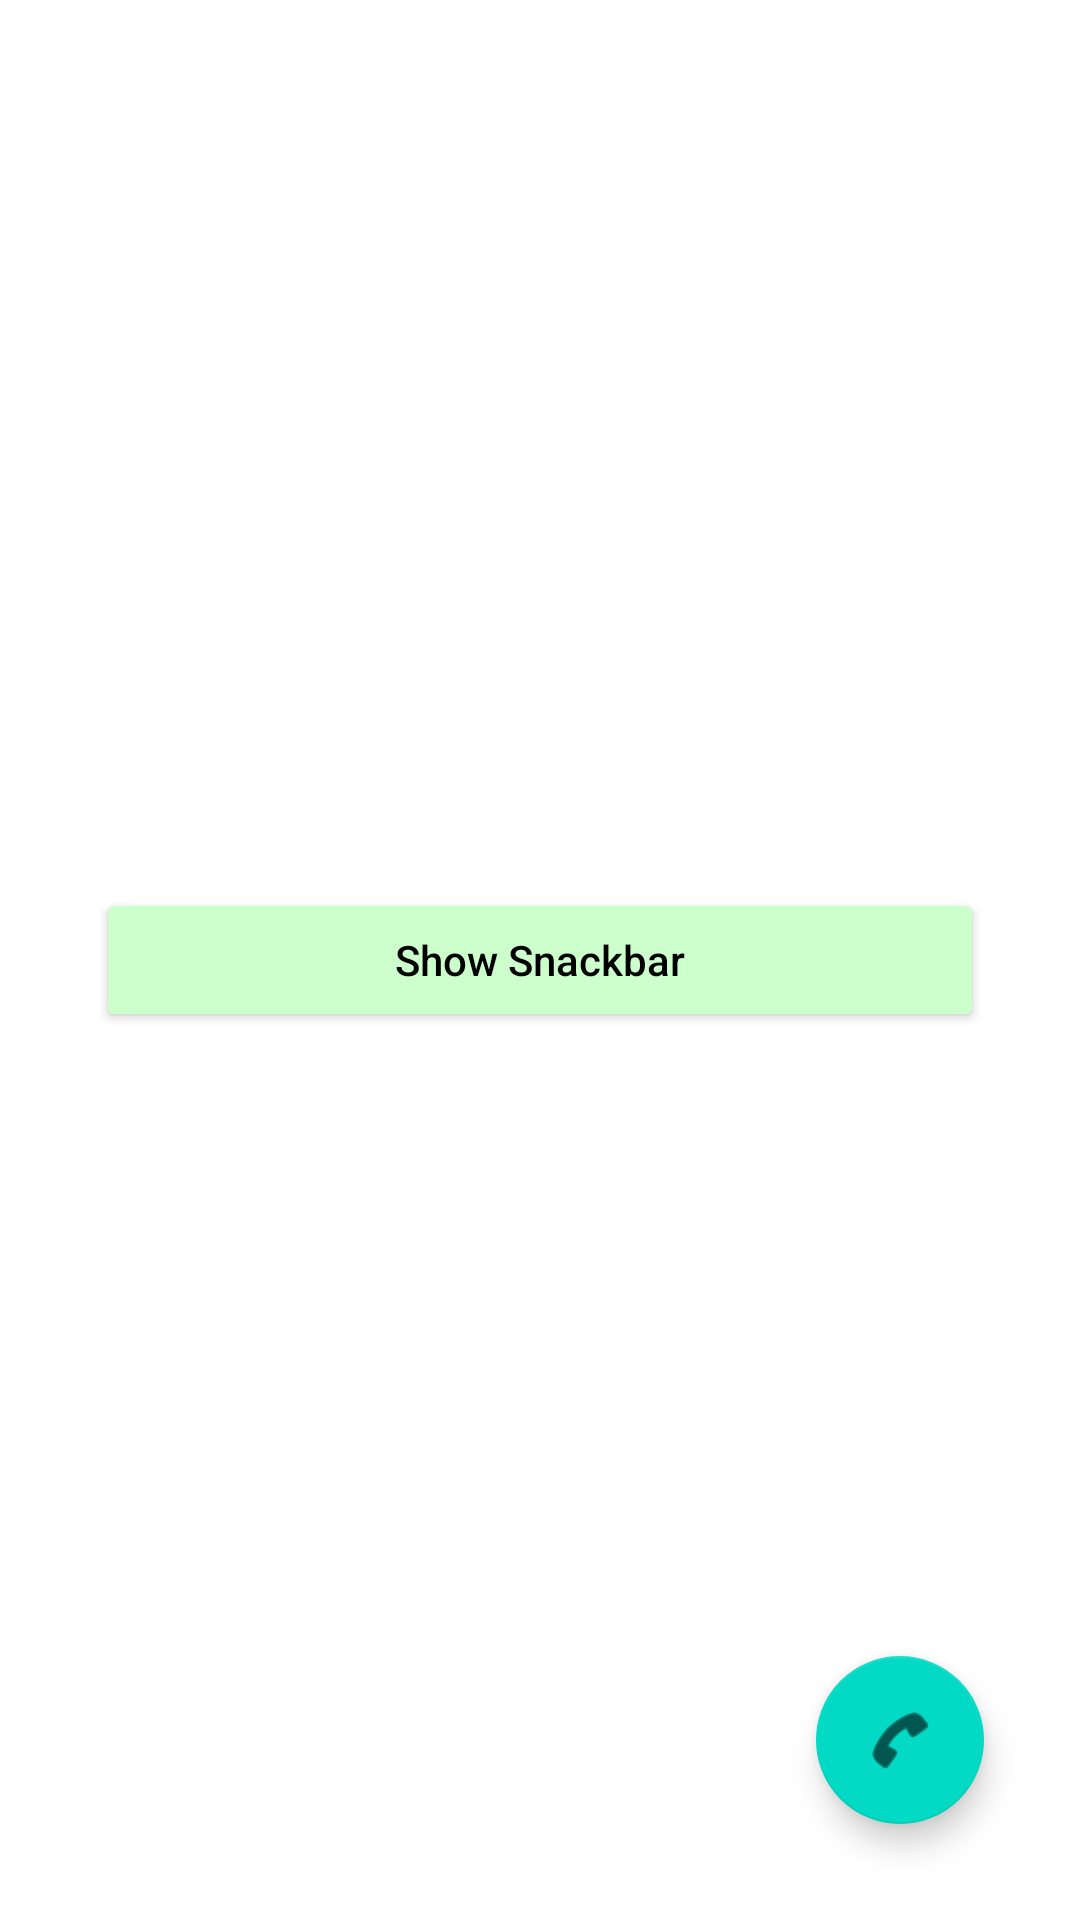

Screen size 1080*1920. Icon name, then its box in pixels as (x1, y1, x2, y2):
call: (816, 1656, 984, 1824)
